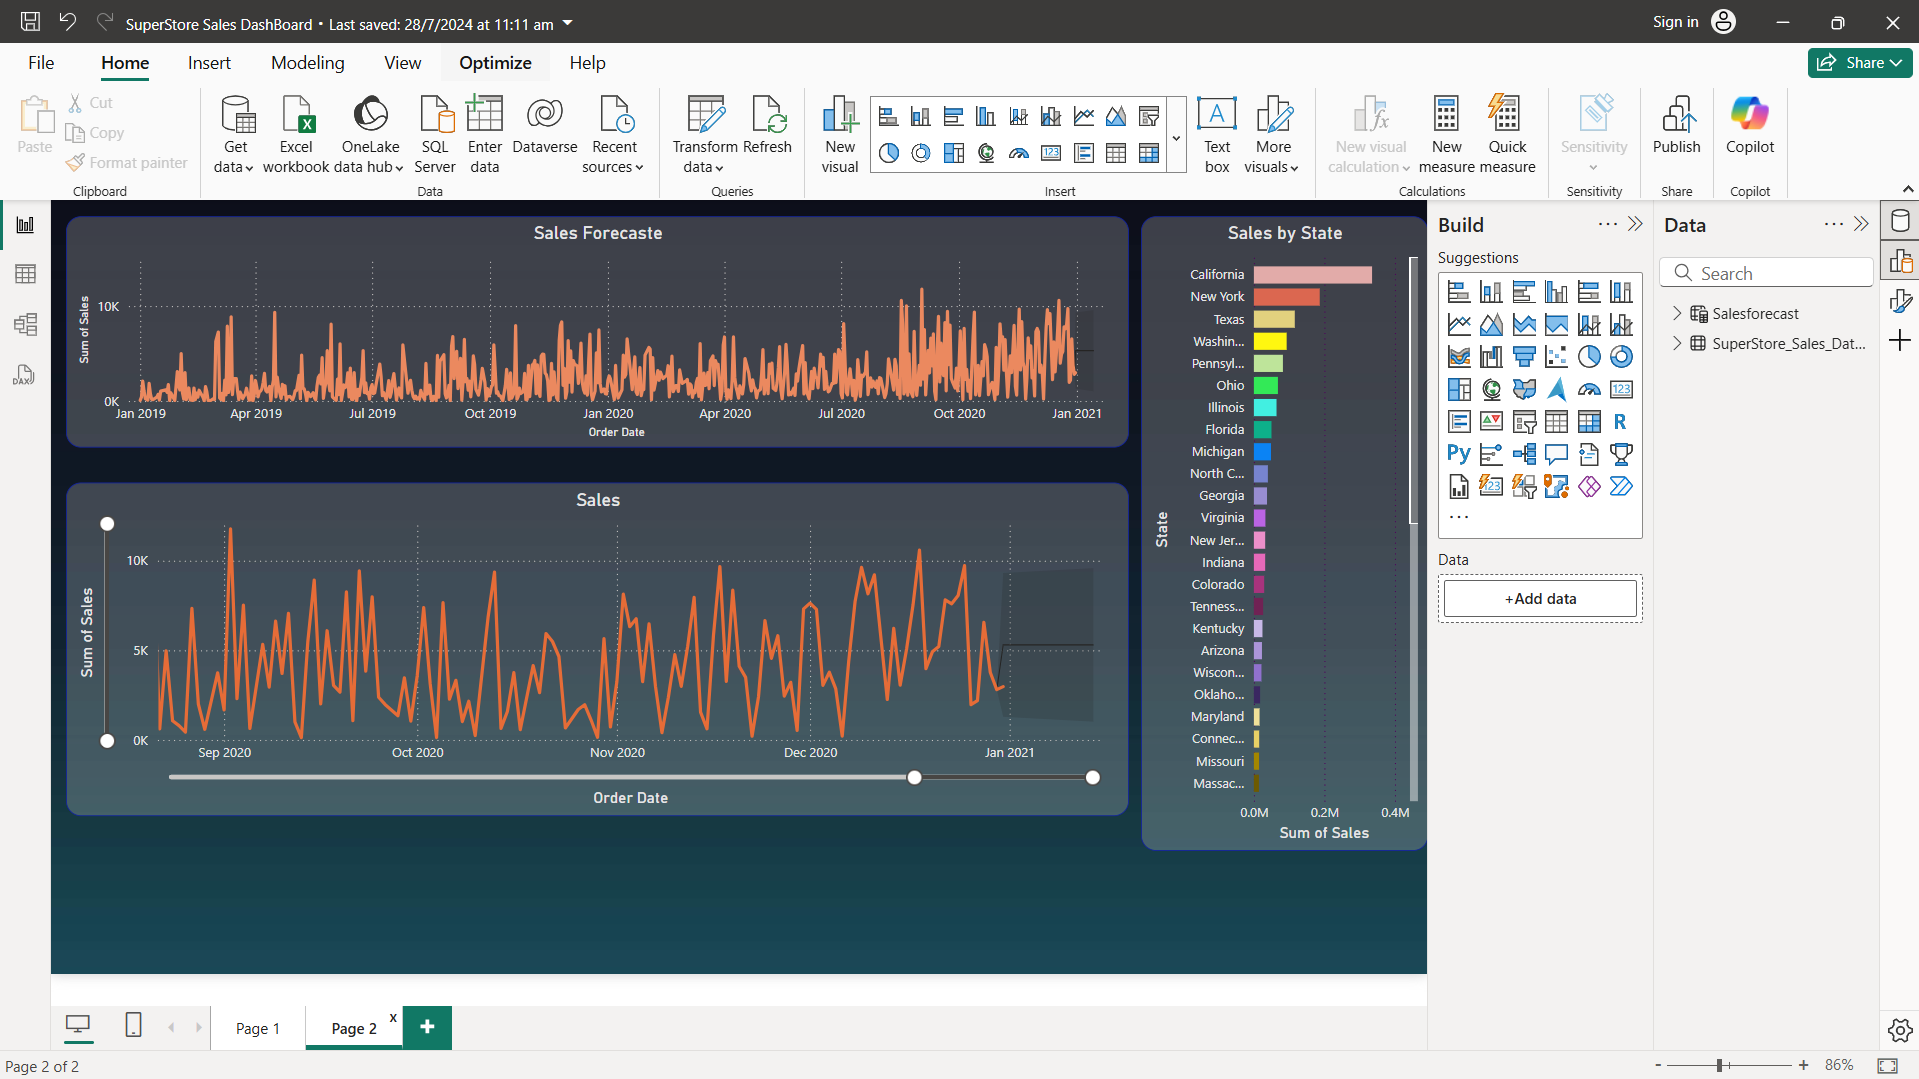

What the dashboard file says about the page in this screenshot:
{"tool":"powerbi","page":{"name":"Page 2","canvas":[1280,720],"ordinal":1},"visuals":[{"type":"lineChart","title":"Sales Forecaste","fields":{"Category":["SuperStore_Sales_Dataset (1).Order Date"],"Y":["Sum(SuperStore_Sales_Dataset (1).Sales)"]},"box":[14.4,15.5,988.7,215.5],"z":0},{"type":"lineChart","title":"Sales ","fields":{"Category":["SuperStore_Sales_Dataset (1).Order Date"],"Y":["Sum(SuperStore_Sales_Dataset (1).Sales)"]},"box":[14.4,262.9,988.7,310.3],"z":1000},{"type":"clusteredBarChart","title":"Sales by State","fields":{"Category":["SuperStore_Sales_Dataset (1).State"],"Y":["Sum(SuperStore_Sales_Dataset (1).Sales)"]},"box":[1013.4,15.5,267,590.7],"z":2000}]}

Visuals, with their boxes on the page's 1280x720 design canvas (x1, y1, x2, y2). These are canvas units, not pixel positions in the 1919x1079 screenshot, which may show the page scaled, cropped or inside an application window:
"Sales Forecaste" lineChart: select_region(14, 16, 1003, 231)
"Sales " lineChart: select_region(14, 263, 1003, 573)
"Sales by State" clusteredBarChart: select_region(1013, 16, 1280, 606)
